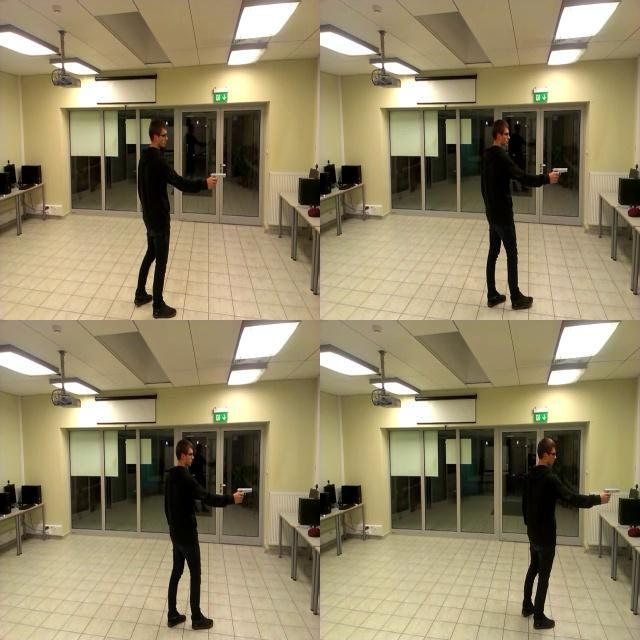gun-knife-thesis - v11 Yolov5 augmented: (547, 163, 568, 183), (206, 169, 226, 189), (229, 485, 251, 503), (601, 485, 620, 503)
